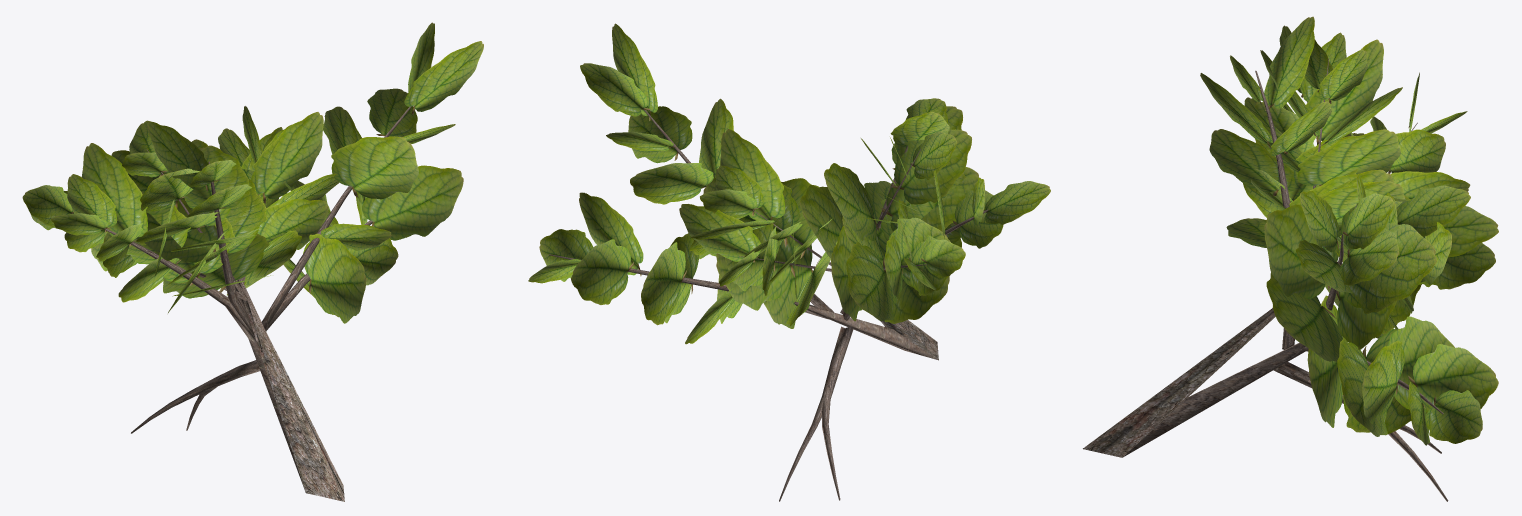
File: boom3.fbx
3 views of the same model, side by side, from view 1: azimuth 30°, elevation 25°; view 2: azimuth 150°, elevation 25°; view 3: azimuth 270°, elevation 25° (orthographic). The views are drawn at different scales.
Visible parts, largest first — view 1: Tree_1, Tree_0; view 2: Tree_1, Tree_0; view 3: Tree_1, Tree_0.
Part boxes in pixels (x1,y1,x2,y2): Tree_1: [22, 22, 483, 323]; Tree_0: [71, 106, 411, 501]; Tree_1: [528, 23, 1050, 344]; Tree_0: [548, 109, 988, 501]; Tree_1: [1200, 16, 1498, 445]; Tree_0: [1083, 58, 1448, 501].
Size of the model in its own units: 298 by 238 by 202.
2 materials, 2 textured.
